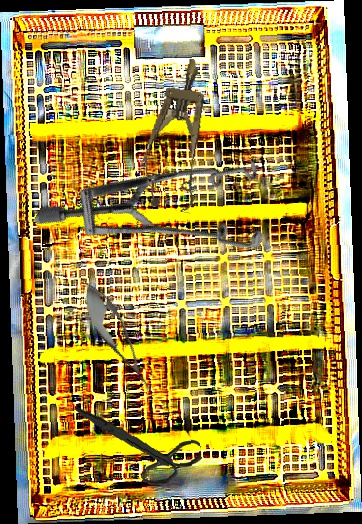Iris Scissors: (74, 393, 204, 493)
Micro Scissor: (72, 275, 164, 401)
Speculum: (33, 79, 295, 326), (135, 53, 222, 215)
